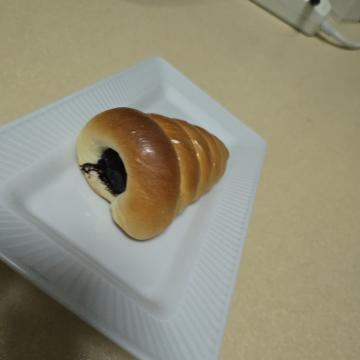cream horn: (94, 123, 268, 300)
